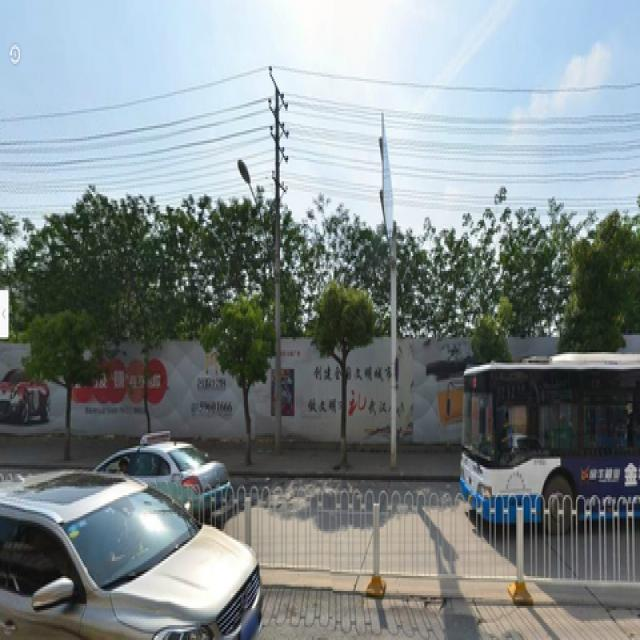cinn: (213, 290, 264, 450), (321, 294, 367, 456), (34, 303, 94, 427)
